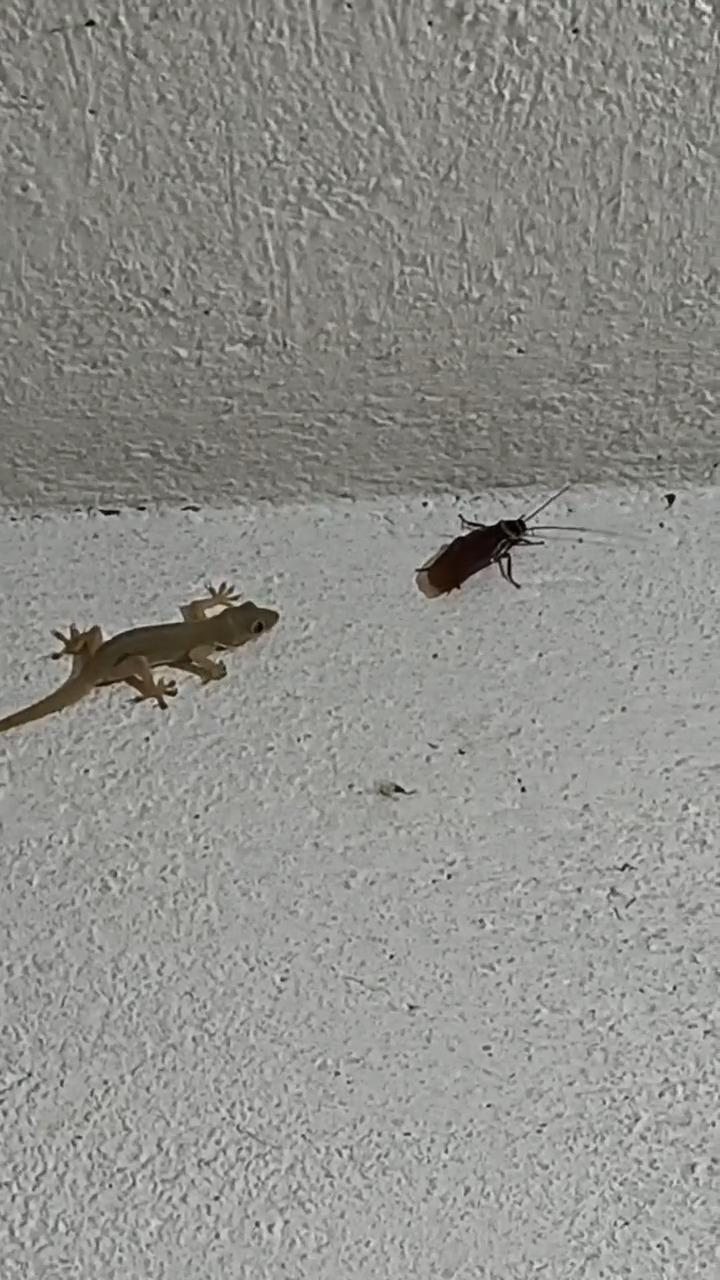cockroach: (409, 502, 597, 614)
lizard: (0, 558, 283, 734)
